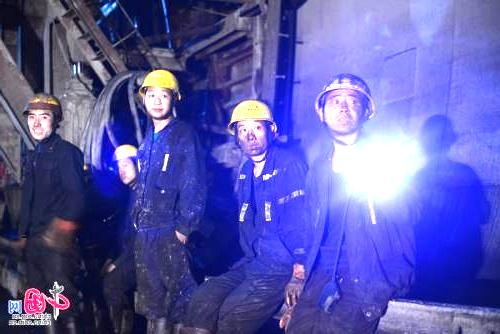helmet: (314, 73, 375, 135), (226, 99, 278, 156), (138, 69, 181, 120), (21, 92, 64, 141), (113, 143, 139, 185)
